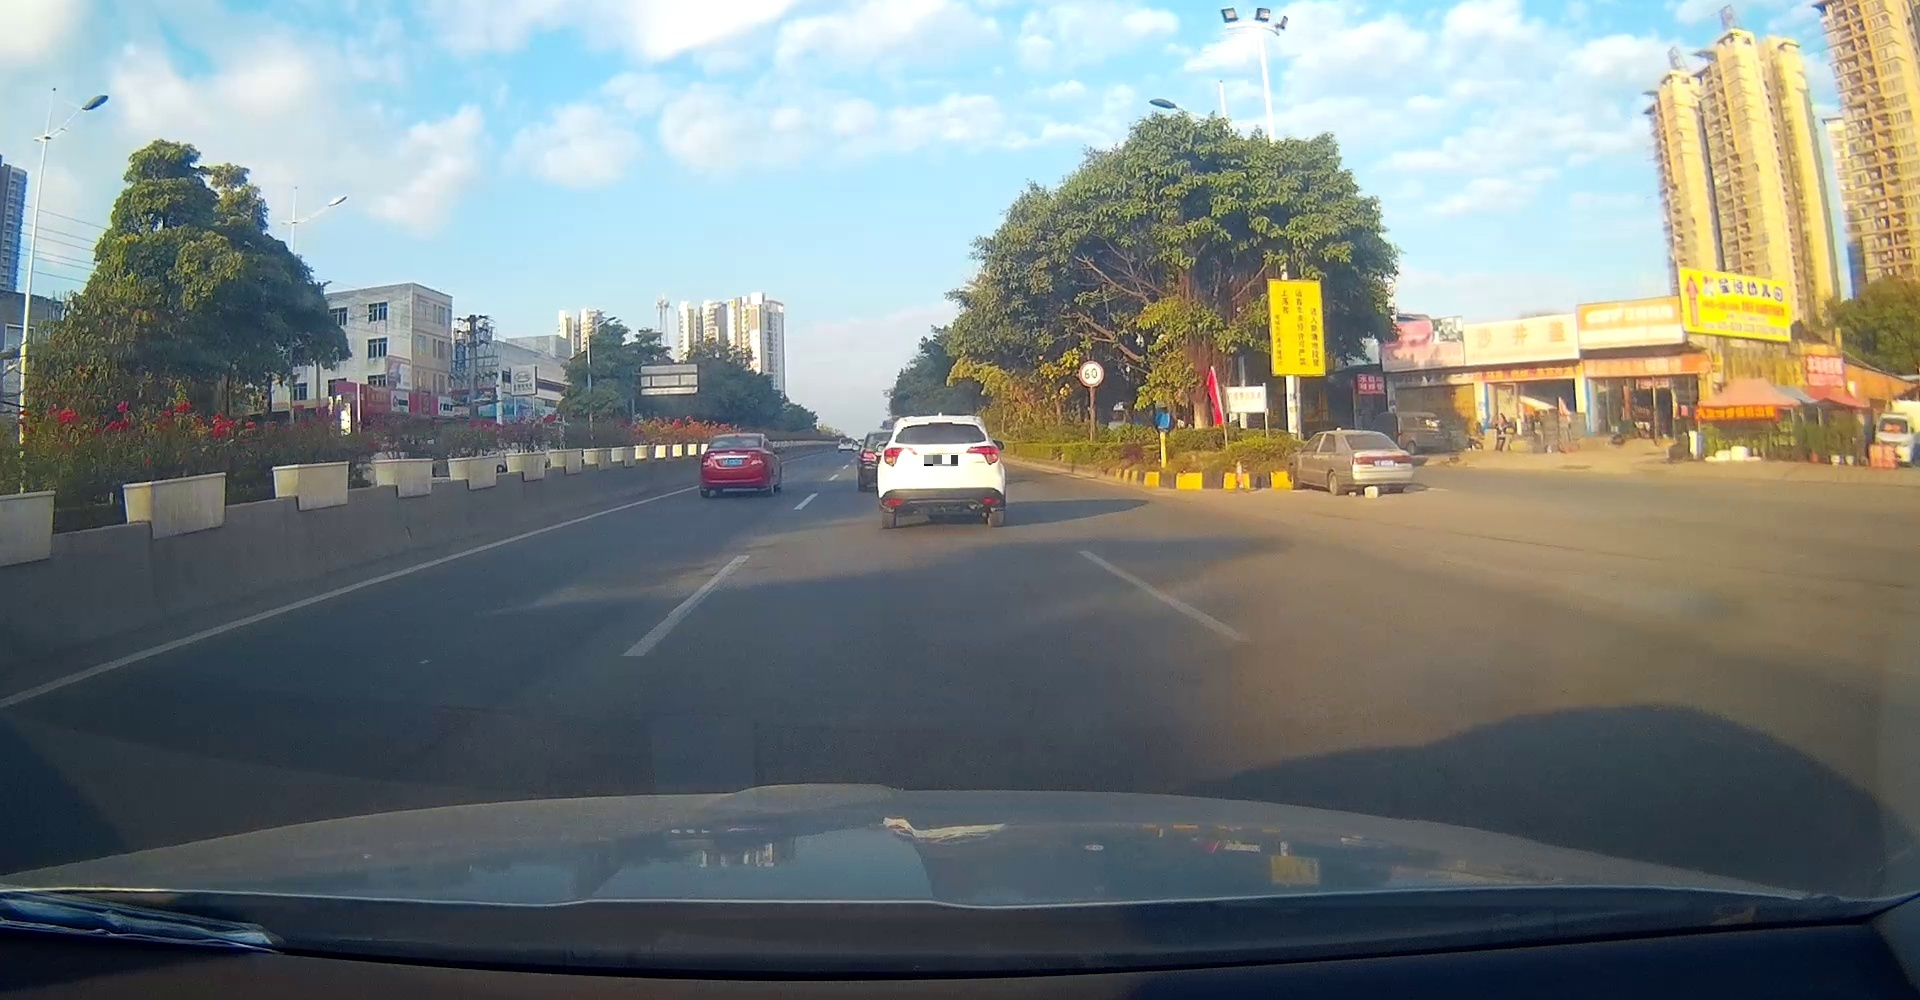L_light: (883, 447, 917, 464), (1350, 456, 1375, 468), (1394, 454, 1413, 468), (698, 453, 717, 466)
R_light: (966, 445, 999, 464), (750, 451, 766, 466)
T_light: (926, 421, 954, 426), (1357, 431, 1374, 437), (729, 434, 743, 437)
day-no: (876, 415, 1006, 527), (698, 431, 768, 500), (1342, 430, 1415, 492)
plate_1: (924, 456, 957, 466)
